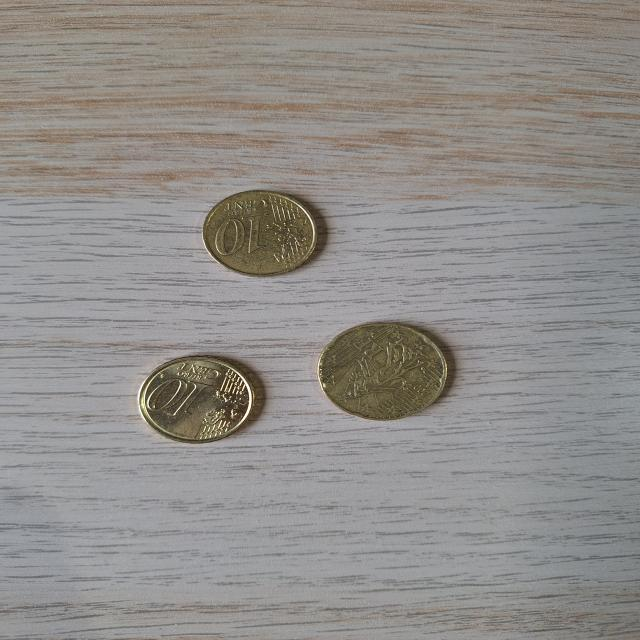10c: (192, 177, 336, 292), (129, 344, 270, 454)
20c: (307, 313, 466, 433)
